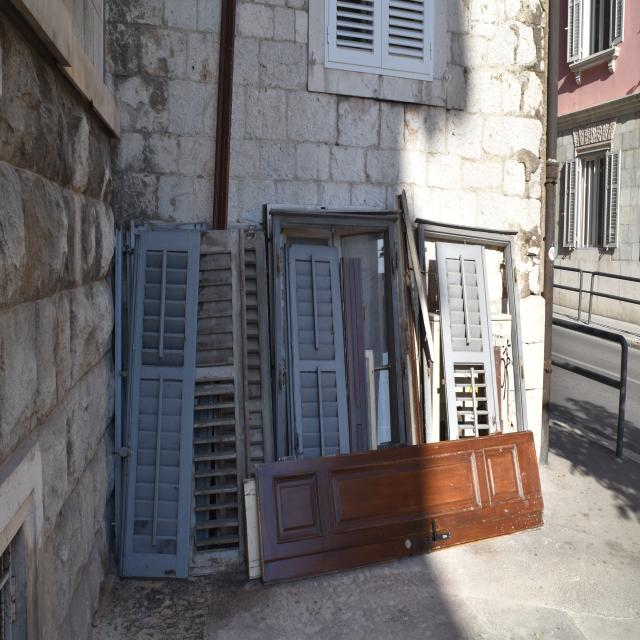entulho: (248, 422, 548, 587), (116, 220, 200, 586), (253, 434, 418, 585), (191, 218, 245, 585), (283, 241, 346, 458), (436, 243, 499, 438), (391, 194, 437, 380), (242, 241, 266, 492), (213, 3, 236, 228)
